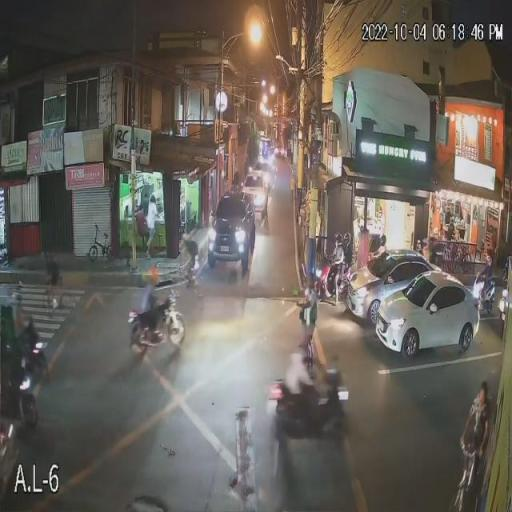helmet: (331, 230, 345, 247), (290, 344, 306, 358), (147, 266, 160, 280), (483, 252, 495, 266), (342, 234, 356, 245)
motorcycle: (267, 366, 351, 442), (0, 332, 47, 426), (128, 292, 186, 358), (314, 258, 352, 306), (472, 273, 506, 318)
rider: (280, 345, 317, 420), (136, 266, 168, 342), (13, 315, 41, 389), (315, 355, 344, 415), (330, 232, 352, 285), (478, 252, 496, 299)
